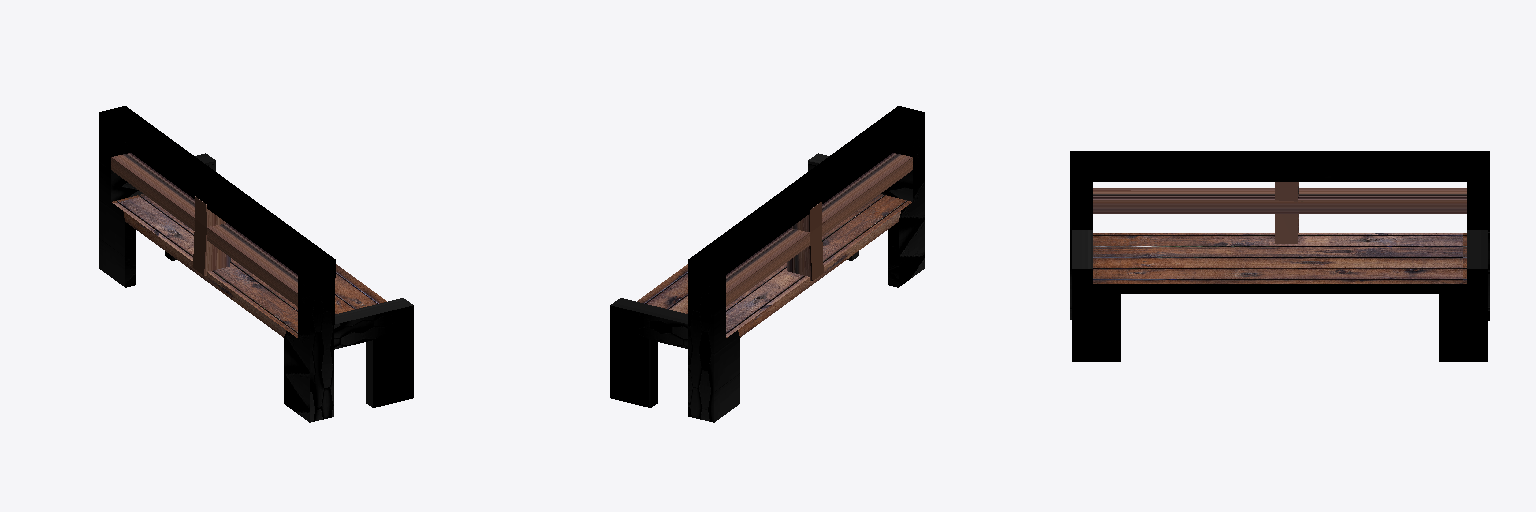
3 renders of one model, left to right at view 1: azimuth 30°, elevation 25°; view 2: azimuth 150°, elevation 25°; view 3: azimuth 270°, elevation 25°, orthographic.
Visible parts, largest first — view 1: Cubo; view 2: Cubo; view 3: Cubo.
Part boxes in pixels (x1,y1,x2,y2): Cubo: (99,106,413,422); Cubo: (610,106,924,422); Cubo: (1070,151,1489,361).
Bounding box in the file's own units: 1.89 × 2.67 × 6.4.
Materials: 2 (2 with a texture image).